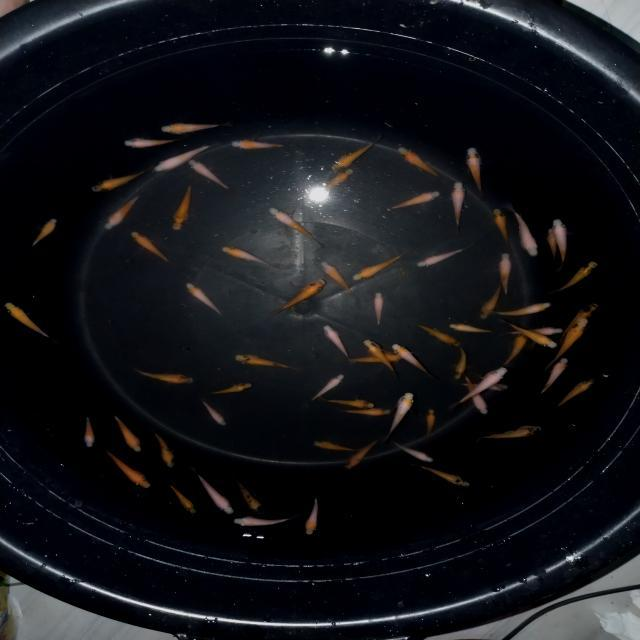nila: (259, 204, 332, 250), (2, 298, 60, 351), (458, 364, 520, 407), (100, 446, 155, 494), (326, 133, 386, 175), (268, 276, 328, 318), (497, 204, 542, 259), (543, 316, 589, 369), (351, 244, 411, 284), (472, 422, 558, 448), (124, 228, 177, 270), (192, 468, 238, 516), (542, 258, 600, 296), (154, 142, 218, 176), (86, 166, 150, 200), (360, 336, 406, 382), (392, 140, 444, 180), (229, 469, 269, 521), (177, 278, 229, 318), (100, 193, 147, 235), (317, 321, 359, 367), (410, 463, 478, 491), (230, 351, 302, 377), (108, 404, 144, 456), (548, 374, 596, 412), (391, 342, 438, 380), (217, 239, 276, 269), (126, 363, 196, 388), (462, 142, 492, 200), (384, 390, 416, 444), (159, 115, 234, 138), (380, 187, 442, 214), (488, 296, 556, 320), (548, 214, 576, 272), (538, 352, 574, 397), (409, 246, 476, 270), (316, 259, 358, 297), (185, 158, 233, 191), (344, 438, 386, 473), (336, 349, 416, 367), (503, 321, 556, 348), (300, 486, 327, 539), (170, 176, 194, 235), (223, 136, 297, 155), (160, 482, 198, 518), (563, 299, 598, 338), (27, 214, 62, 253), (389, 436, 436, 465), (310, 370, 350, 404), (202, 379, 255, 404), (497, 331, 530, 371), (305, 435, 362, 458), (462, 370, 488, 420), (416, 321, 460, 350), (122, 134, 180, 156), (195, 390, 228, 428), (148, 427, 177, 469), (491, 248, 515, 296), (476, 284, 506, 322), (488, 205, 513, 247), (450, 178, 468, 236), (369, 288, 392, 332), (452, 377, 518, 392), (78, 404, 99, 451), (318, 394, 378, 410), (540, 222, 561, 266), (228, 516, 296, 529), (494, 324, 562, 336), (326, 167, 356, 194), (444, 322, 501, 336), (336, 406, 397, 418), (454, 344, 468, 384), (424, 406, 439, 438)
